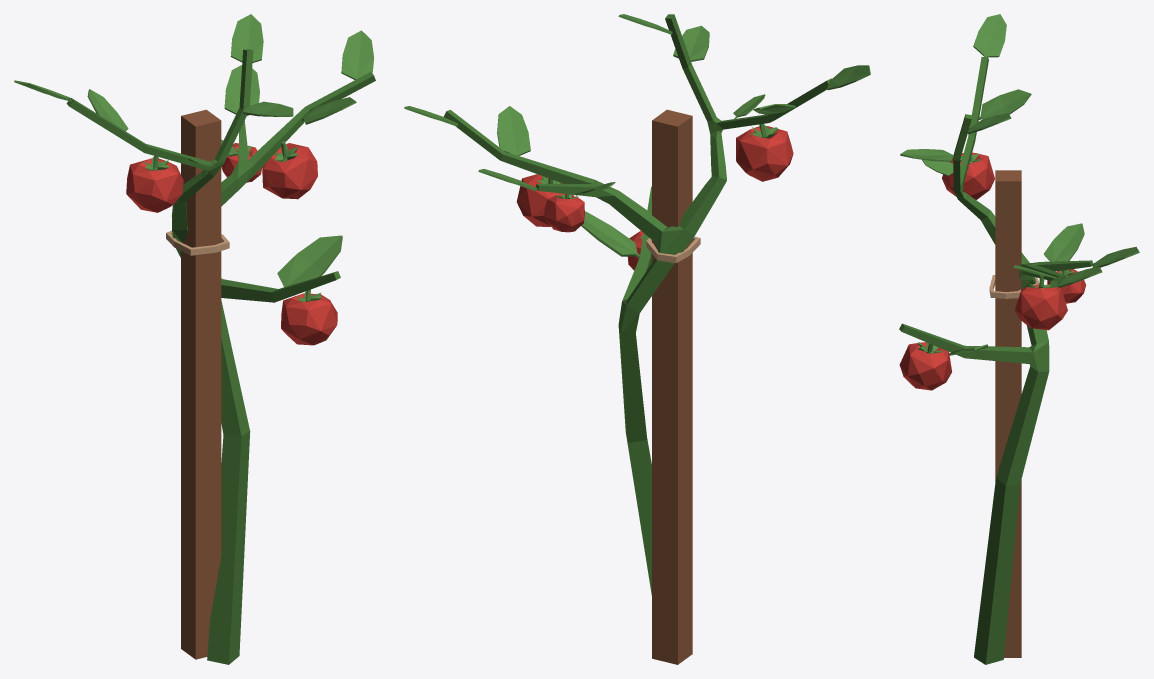
Rendered from TomatoPlant_02.fbx.
3 views of the same model, side by side, from view 1: azimuth 30°, elevation 25°; view 2: azimuth 150°, elevation 25°; view 3: azimuth 270°, elevation 25° (orthographic). The views are drawn at different scales.
Parts seen in each view (by area): view 1: TomatoPlant_02_LOD0; view 2: TomatoPlant_02_LOD0; view 3: TomatoPlant_02_LOD0.
Boxes of the visible parts, x1=… form: TomatoPlant_02_LOD0: x1=14, y1=14, x2=375, y2=664; TomatoPlant_02_LOD0: x1=404, y1=14, x2=870, y2=664; TomatoPlant_02_LOD0: x1=899, y1=14, x2=1139, y2=664.
Size of what is drawn, in the model's own units: 62.28 by 91.33 by 35.66.
